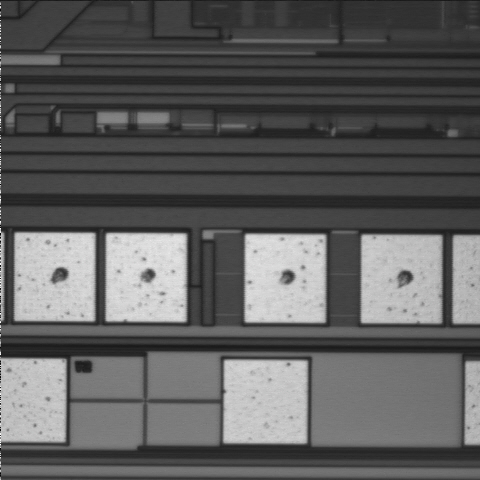pad: (106, 233, 186, 322), (15, 233, 95, 321), (245, 234, 325, 322), (362, 235, 441, 323), (224, 360, 307, 443)
